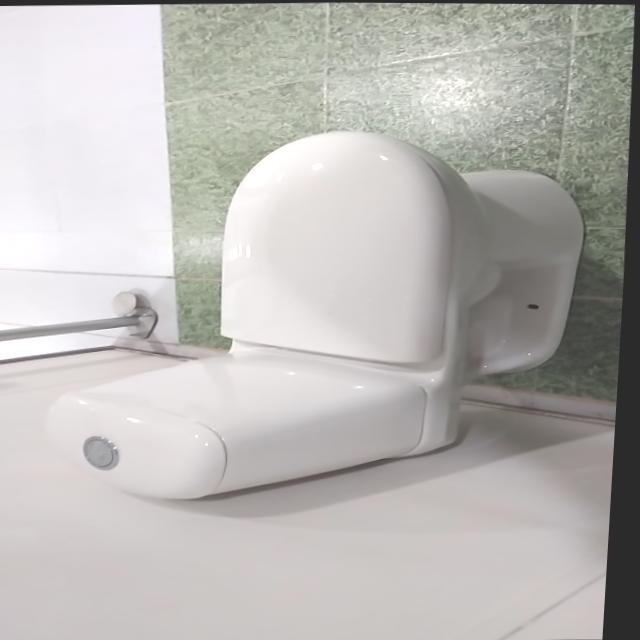toilet: (43, 123, 599, 505)
